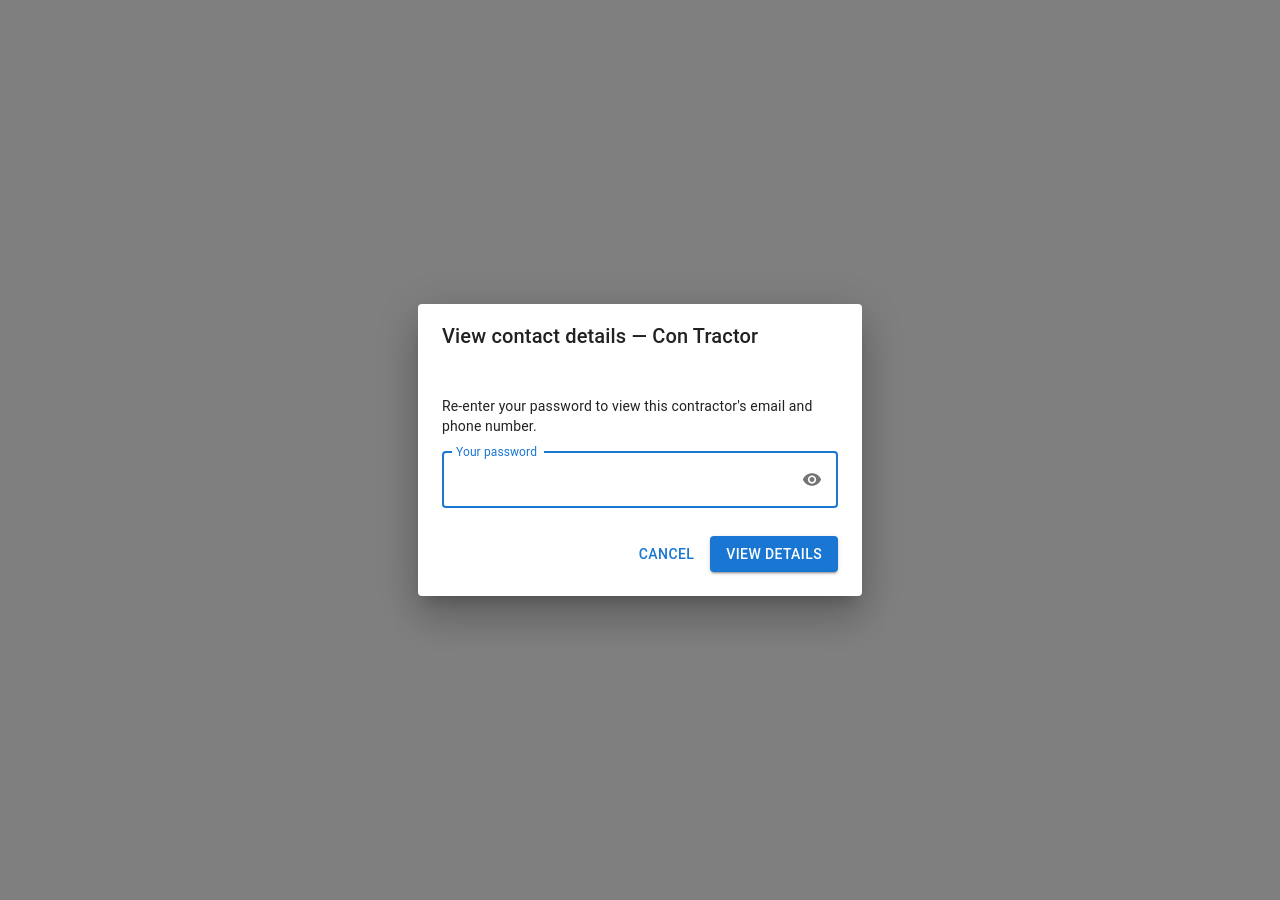
Test case: RevealEmailDialog › does not submit when the password field is empty
This screenshot has width=1280, height=900.
Click the button "View Details": (774, 554) x1=710 y1=536 x2=838 y2=572
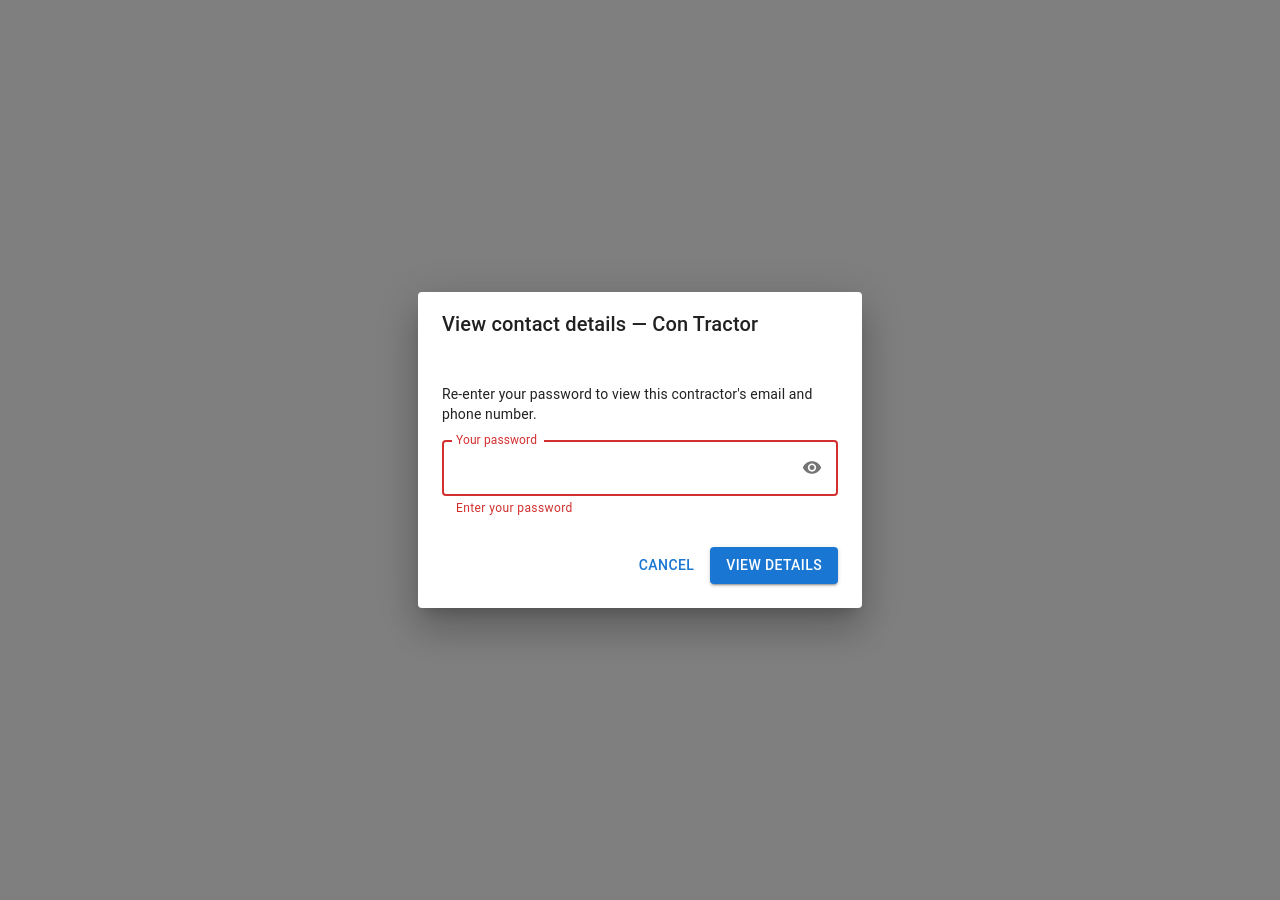
Expected: the text "Enter your password" is shown, x1=456 y1=501 x2=573 y2=515
